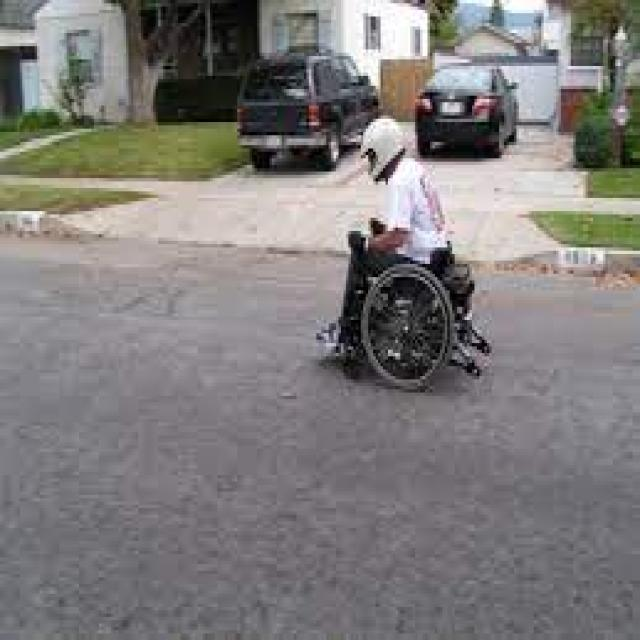wheelchairs: (324, 177, 500, 429)
